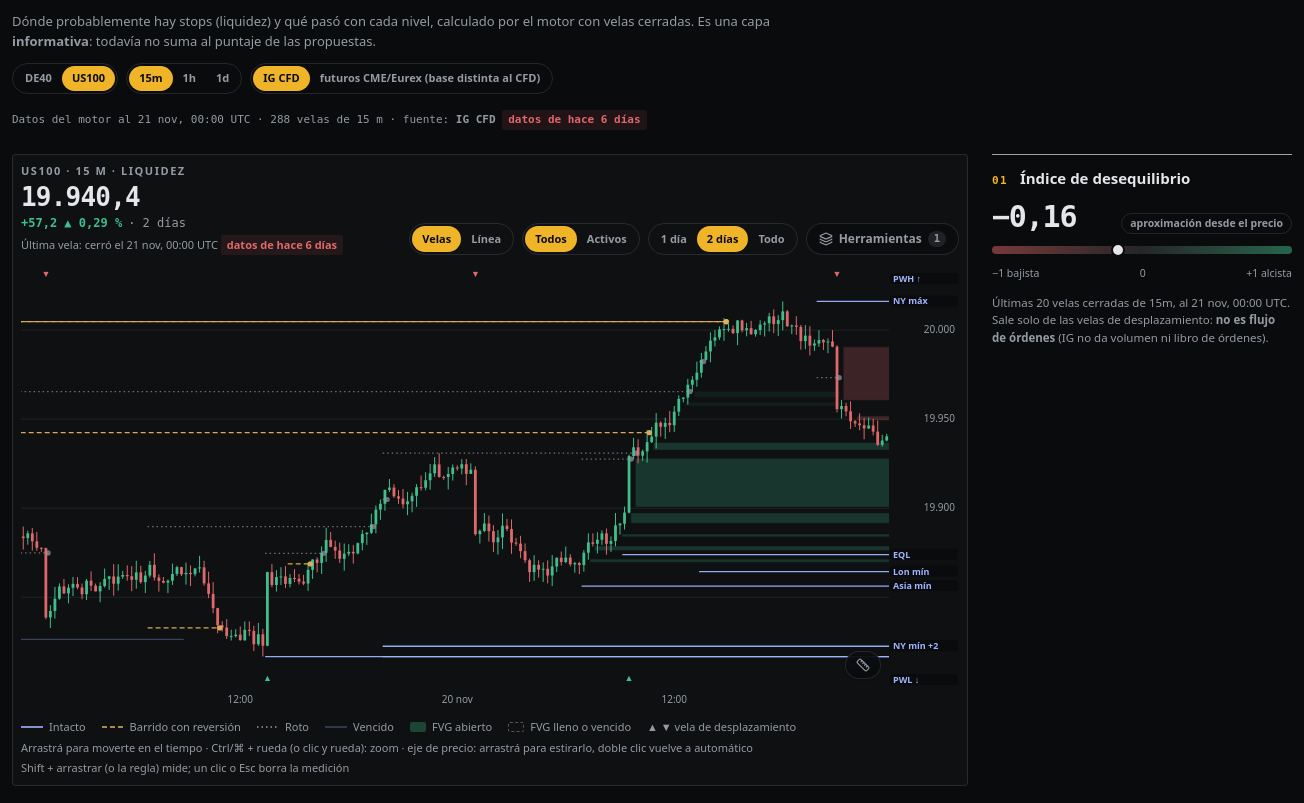
Test: vista de liquidez en vivo (#231) › la fuente de futuros se pide con ?source=futures y la vista dice de dónde son los precios
The image size is (1304, 803).
Expected: the text "IG CFD" is shown, left=456, top=112, right=496, bottom=126
Click the button "futuros CME/Eurex (base distinta al CFD)" at (430, 78), box left=310, top=66, right=550, bottom=90
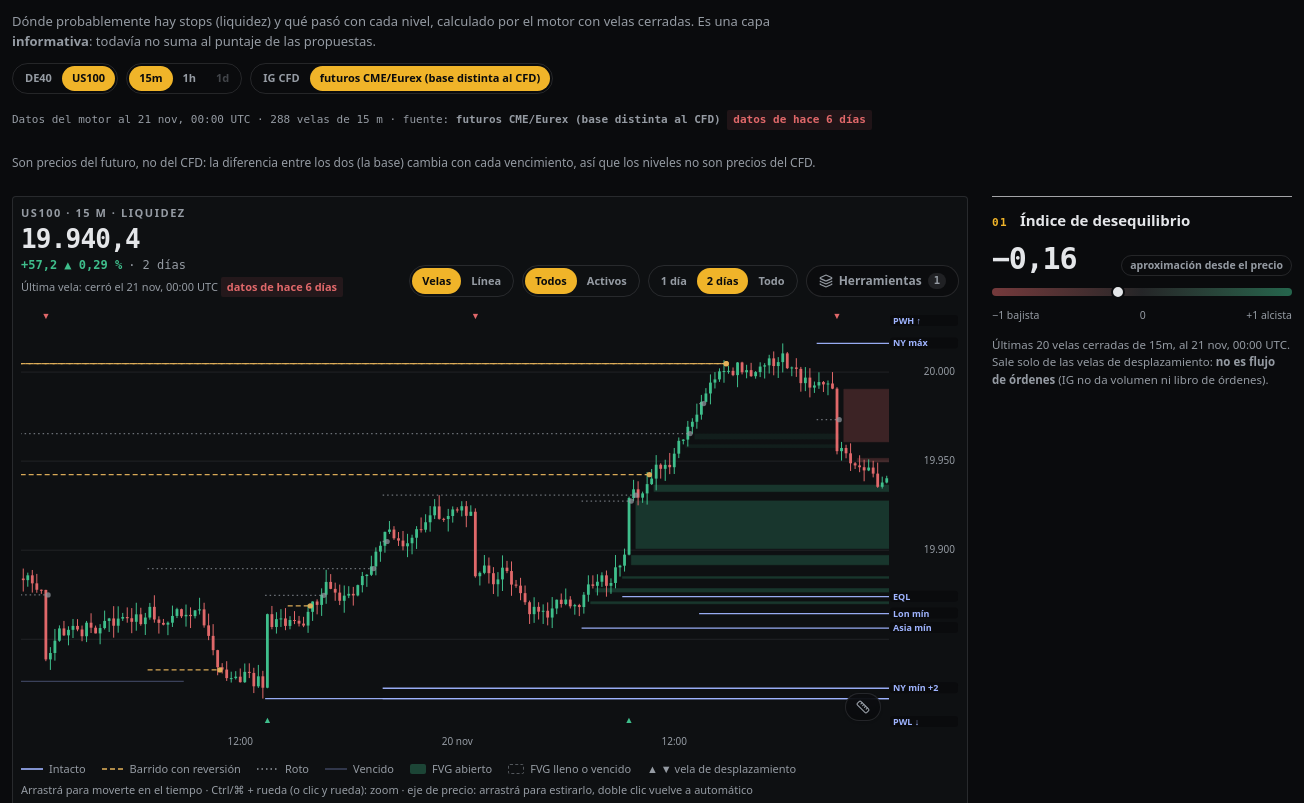
Expected: the text "futuros CME/Eurex (base distinta al CFD)" is shown, left=456, top=112, right=721, bottom=126
Expected: the text "precios del futuro, no del CFD" is shown, left=12, top=154, right=815, bottom=171
